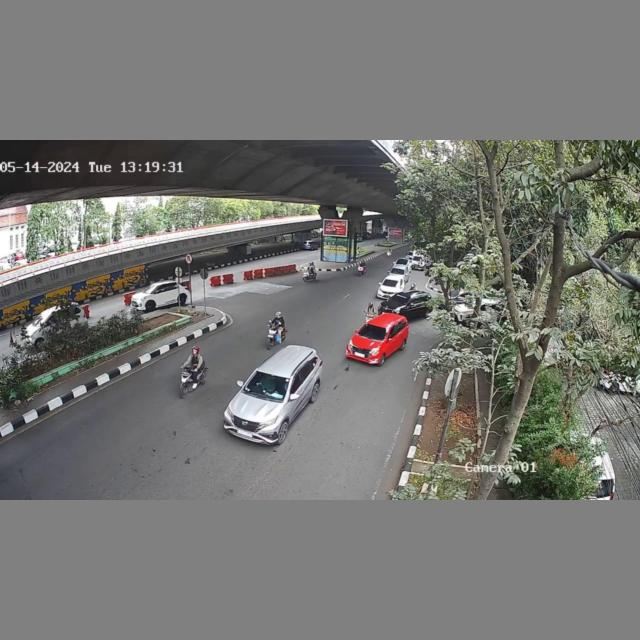windshield: (244, 370, 290, 401), (356, 322, 388, 340)
